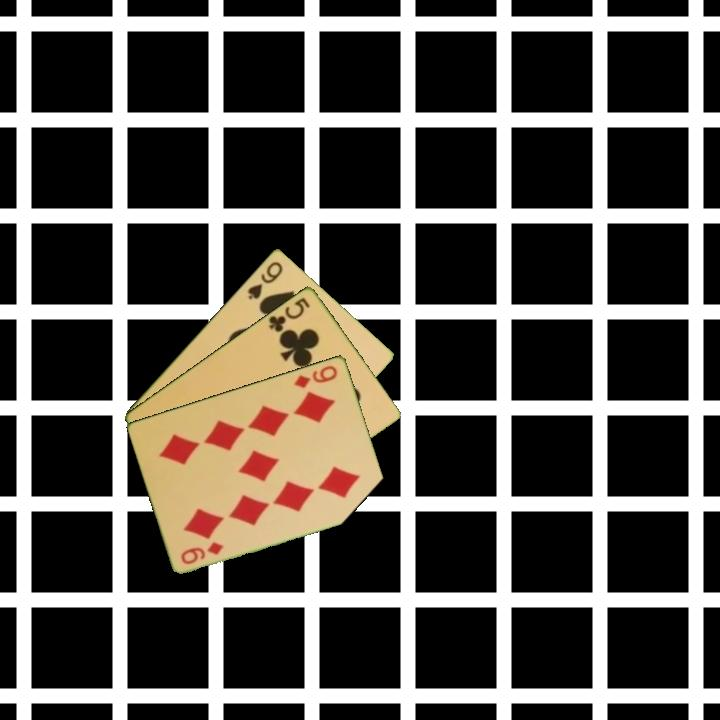5c: (265, 293, 313, 335)
9d: (291, 361, 340, 391), (177, 538, 227, 567)
9s: (244, 257, 286, 302)
